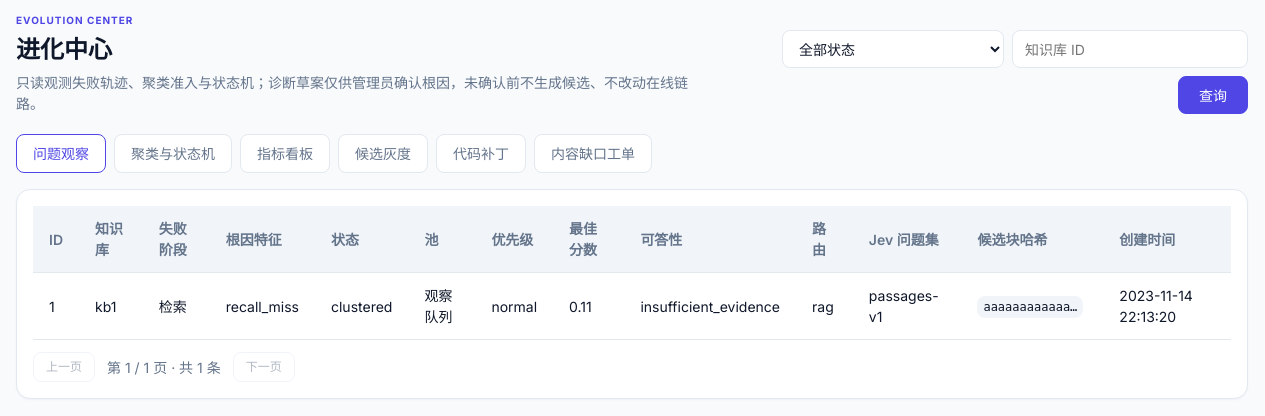
Test: EvolutionCenterView › marks the metrics area as the next phase placeholder
The width and height of the screenshot is (1265, 416).
Click the button with test id "tab-metrics": {"x": 285, "y": 154} x1=240 y1=134 x2=330 y2=173
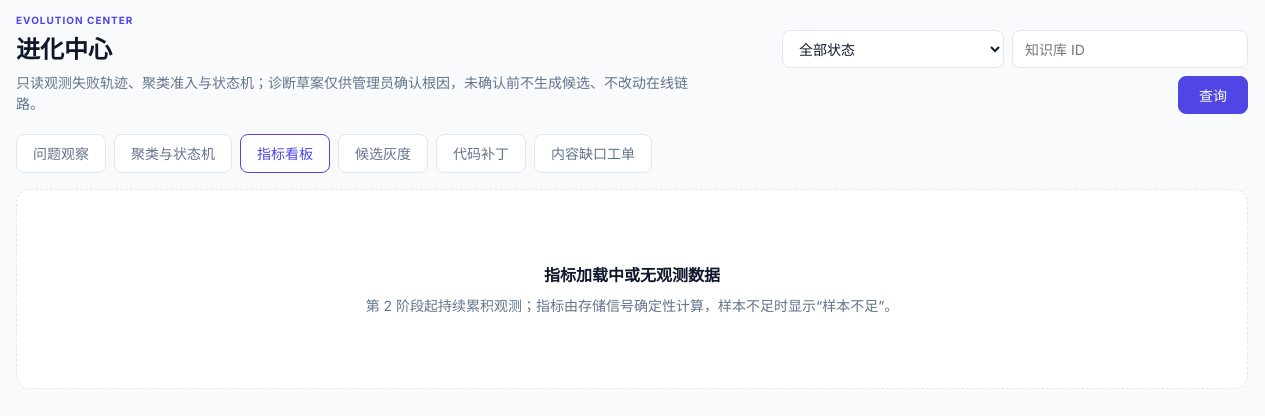
Now the element with test id "metrics-placeholder" shows "指标", box x1=16 y1=189 x2=1248 y2=389
